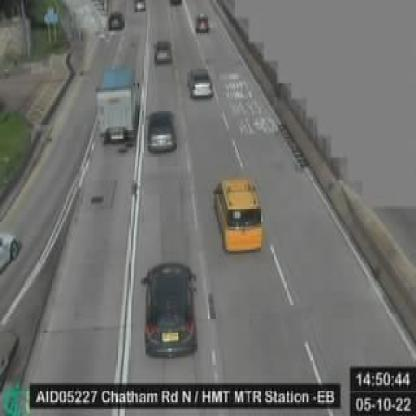Car: (143, 265, 196, 359), (214, 178, 260, 255), (148, 109, 180, 151), (187, 68, 215, 97), (152, 38, 173, 63), (195, 10, 211, 33), (109, 14, 125, 31)
Truck: (95, 70, 138, 148)
